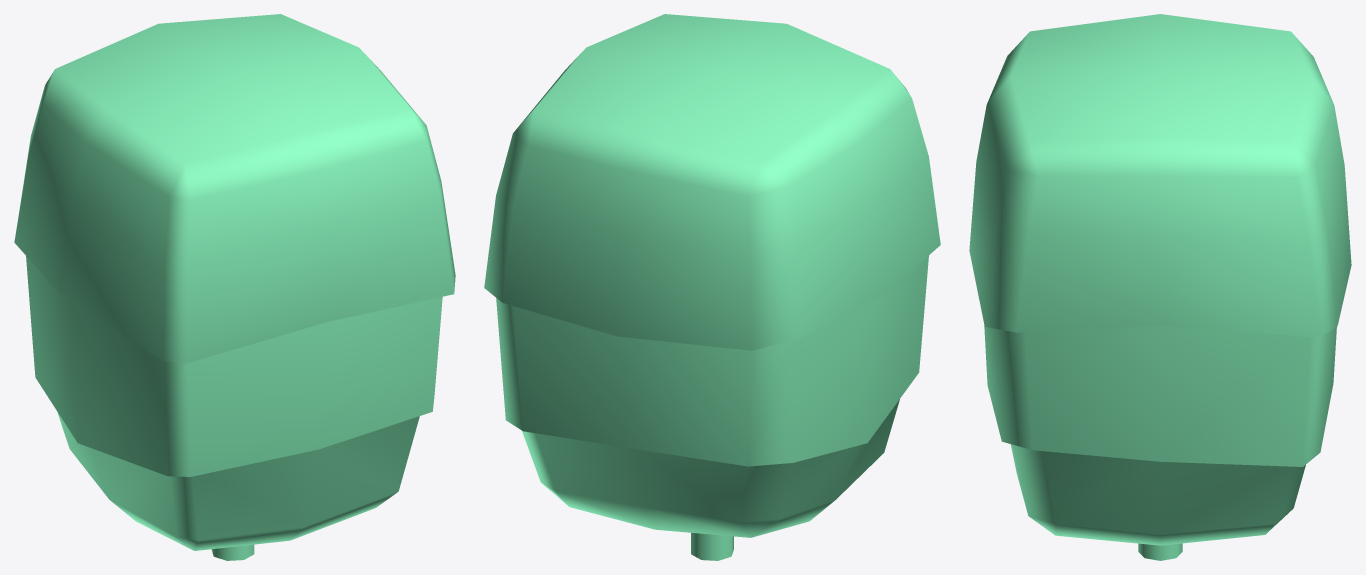
The model's file is BushB1.fbx.
3 renders of one model, left to right at view 1: azimuth 30°, elevation 25°; view 2: azimuth 150°, elevation 25°; view 3: azimuth 270°, elevation 25°, orthographic.
Visible parts, largest first — view 1: Bush_B1; view 2: Bush_B1; view 3: Bush_B1.
Boxes of the visible parts, <box> form: Bush_B1: <box>14,14,455,560</box>; Bush_B1: <box>484,14,940,560</box>; Bush_B1: <box>969,14,1351,560</box>.
Size of the model in its own units: 55.47 by 73.65 by 52.82.
